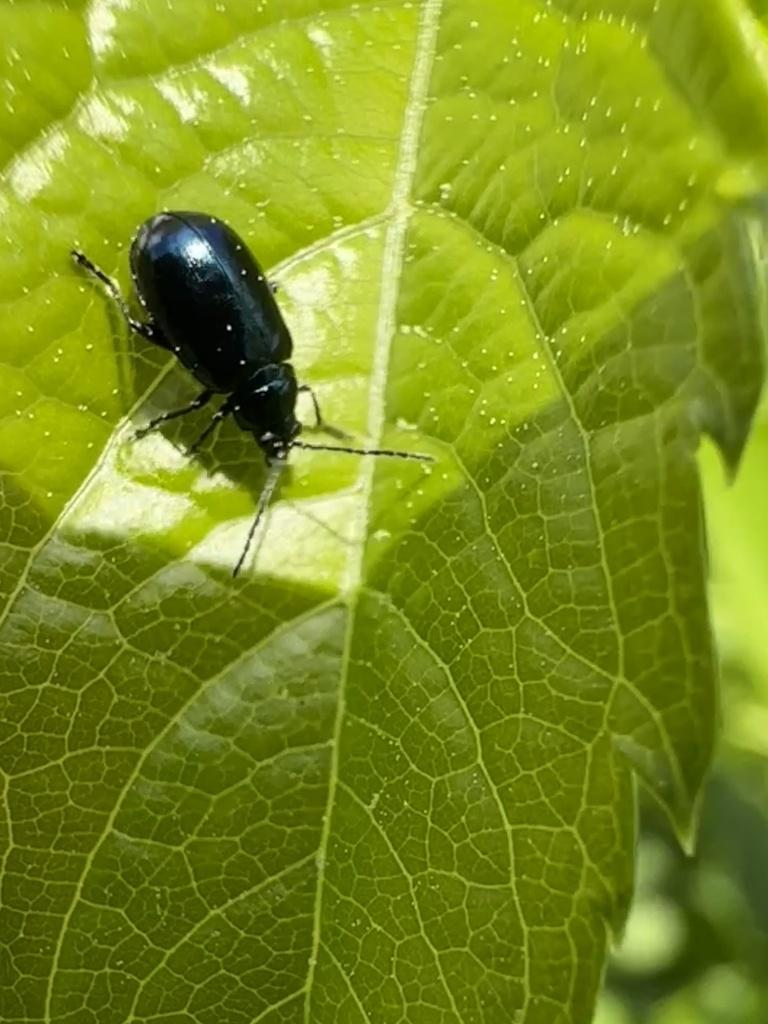flea_beetle: (15, 133, 499, 601)
